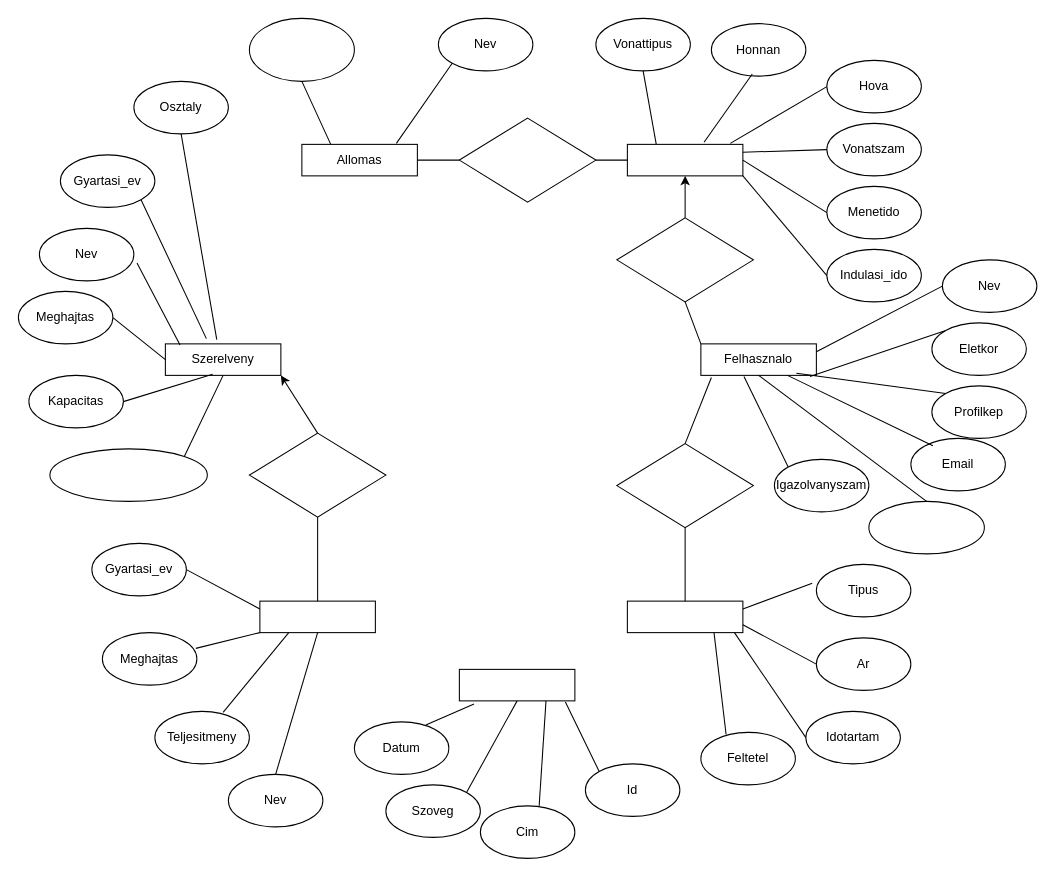
Some shapes in this 1055 by 877 pixel diagram are drawn without their labels. The centre of each missing label's shape, as x and y in pixels:
"Hir" goes at [516,684].
"Jarat" goes at [684,159].
"Jegy" goes at [684,616].
"Kedvezmenytipus" goes at [926,527].
"Kerekparhelyek_szama" goes at [128,474].
"Kozlekedik" goes at [527,159].
"Mozdony" goes at [317,616].
"Utazik" goes at [684,259].
"Varos" goes at [301,49].
"Vasarol" goes at [684,485].
"Vontat" goes at [317,474].
